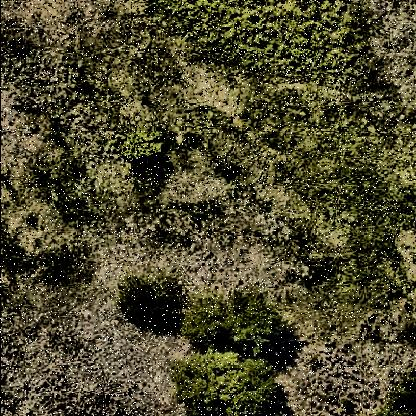tree-top: (171, 350, 283, 416), (184, 288, 278, 350), (117, 276, 181, 340), (112, 119, 168, 169), (381, 380, 416, 416)
